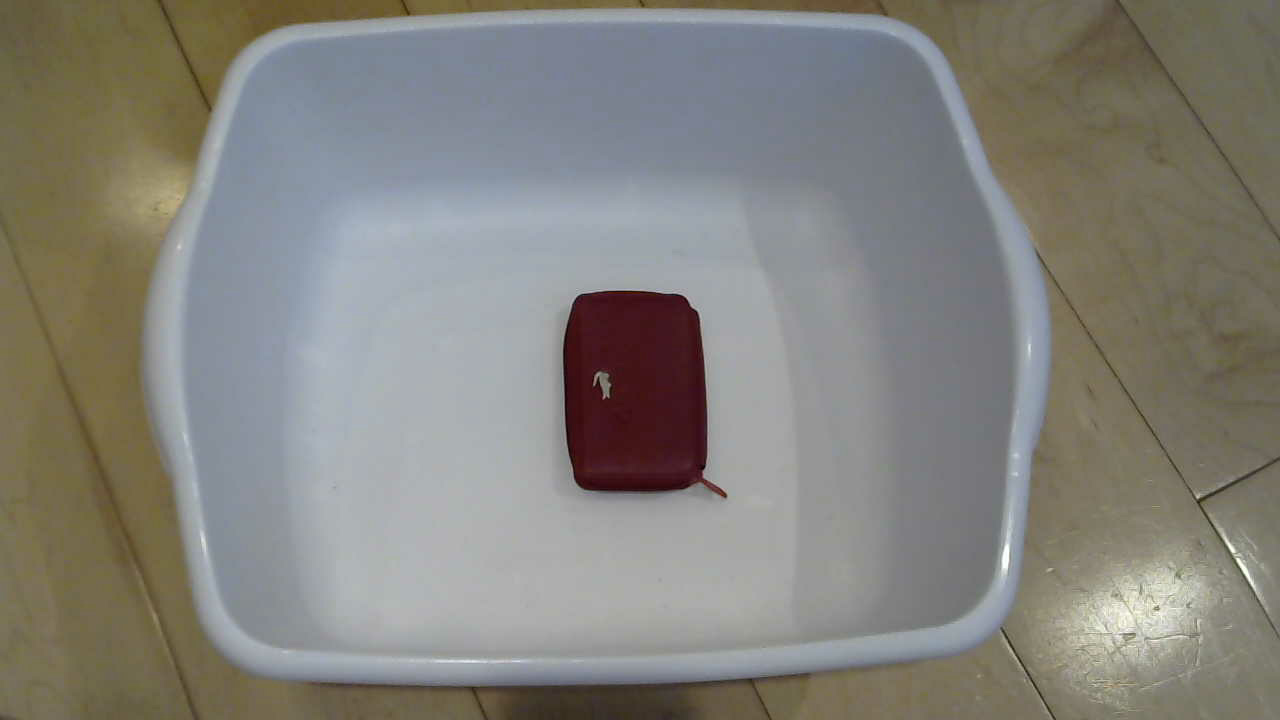wallet: (543, 295, 731, 508)
